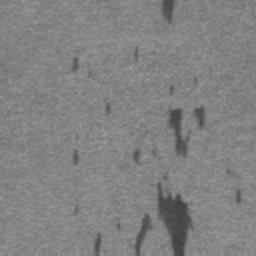Red iron sheet: (134, 182, 195, 256), (166, 84, 206, 159), (160, 0, 177, 24), (93, 233, 102, 256), (132, 150, 141, 165), (72, 148, 79, 166), (72, 55, 79, 72), (105, 102, 111, 115), (133, 47, 138, 61), (236, 191, 241, 204)
